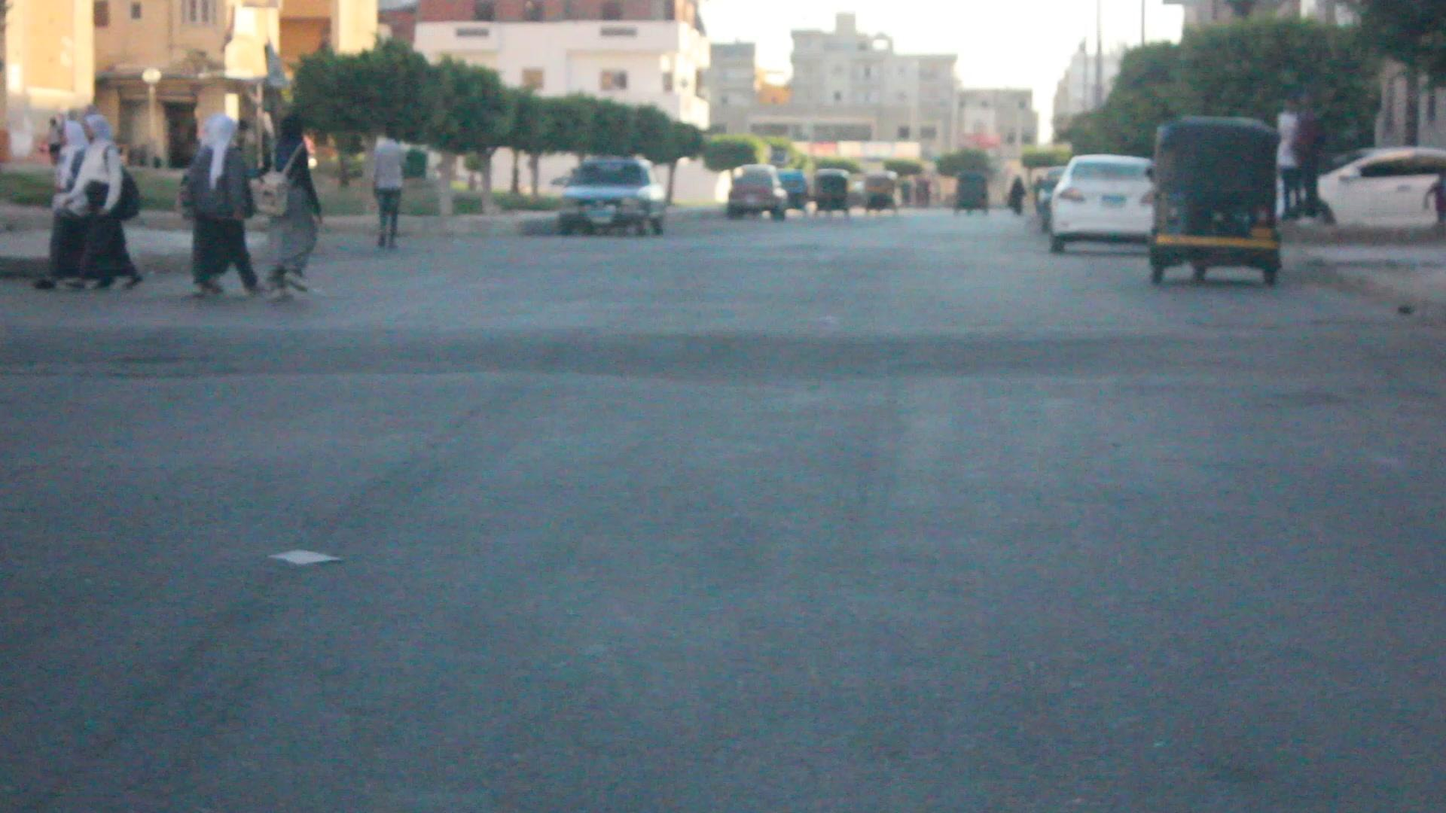Bump: (8, 303, 1446, 393)
